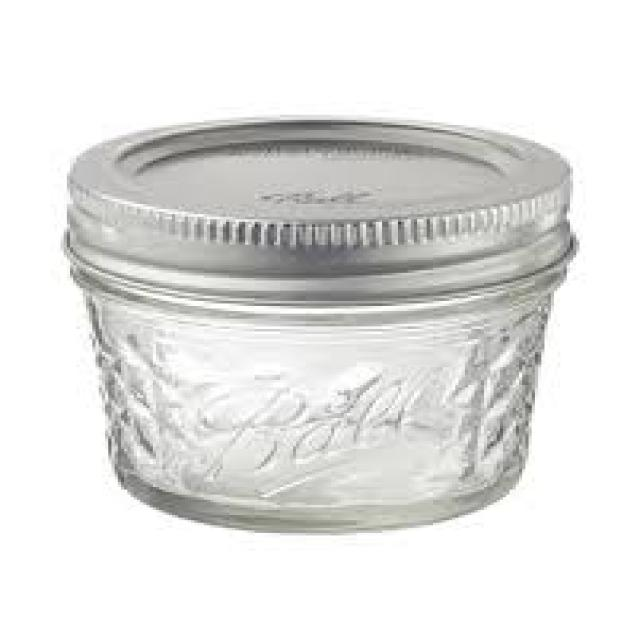glass: (70, 268, 548, 528)
metal: (64, 112, 573, 301)
